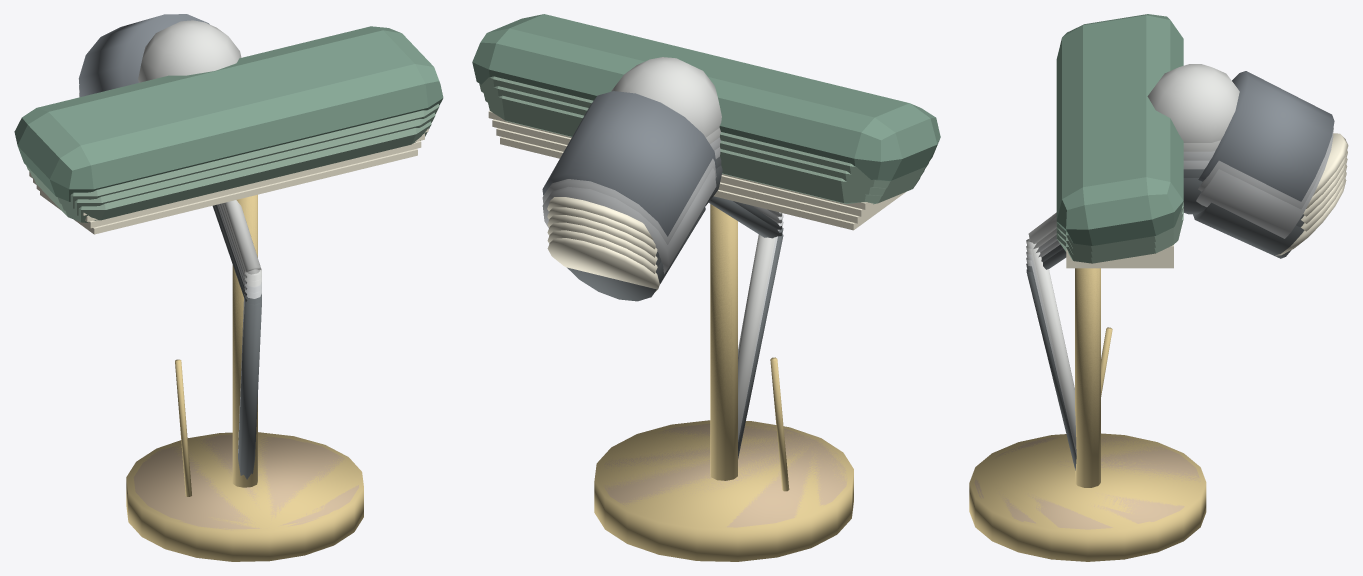
The model's file is Gear02.fbx.
3 renders of one model, left to right at view 1: azimuth 30°, elevation 25°; view 2: azimuth 150°, elevation 25°; view 3: azimuth 270°, elevation 25°, orthographic. The views are drawn at different scales.
Visible parts, largest first — view 1: Gear02_V10_SageDark, Gear02_V10_Brass, Gear02_V7_Oak, Gear02_V9_Brass, Gear02_V7_Sage, Gear02_V6_Chrome, Gear02_V6_Graphite, Gear02_V9_Sage, Gear02_V1_Charcoal, Gear02_V8_Sage, Gear02_V7_LampLight, Gear02_V7_Brass (+3 smaller); view 2: Gear02_V10_SageDark, Gear02_V10_Brass, Gear02_V6_Graphite, Gear02_V9_Brass, Gear02_V7_Oak, Gear02_V6_Chrome, Gear02_V7_Sage, Gear02_V7_Brass, Gear02_V1_Charcoal, Gear02_V4_BrushedSteel, Gear02_V8_Brass, Gear02_V9_Sage (+14 smaller); view 3: Gear02_V10_SageDark, Gear02_V10_Brass, Gear02_V6_Graphite, Gear02_V6_Chrome, Gear02_V9_Brass, Gear02_V4_BrushedSteel, Gear02_V1_Charcoal, Gear02_V8_Oak, Gear02_V7_Brass, Gear02_V8_Brass, Gear02_V7_Oak, Gear02_V5_BrushedSteel (+9 smaller).
Boxes of the visible parts, bbox=[...] form: Gear02_V10_SageDark: bbox=[14, 26, 443, 201]; Gear02_V10_Brass: bbox=[126, 194, 363, 561]; Gear02_V7_Oak: bbox=[133, 435, 340, 529]; Gear02_V9_Brass: bbox=[134, 195, 359, 531]; Gear02_V7_Sage: bbox=[34, 121, 431, 222]; Gear02_V6_Chrome: bbox=[138, 20, 261, 449]; Gear02_V6_Graphite: bbox=[78, 14, 209, 96]; Gear02_V9_Sage: bbox=[26, 104, 439, 208]; Gear02_V1_Charcoal: bbox=[212, 205, 261, 479]; Gear02_V8_Sage: bbox=[30, 112, 435, 215]; Gear02_V7_LampLight: bbox=[40, 149, 417, 234]; Gear02_V7_Brass: bbox=[175, 198, 257, 496]; Gear02_V10_SageDark: bbox=[472, 14, 940, 181]; Gear02_V10_Brass: bbox=[594, 205, 853, 561]; Gear02_V6_Graphite: bbox=[542, 91, 716, 236]; Gear02_V9_Brass: bbox=[597, 222, 843, 528]; Gear02_V7_Oak: bbox=[604, 423, 845, 523]; Gear02_V6_Chrome: bbox=[611, 57, 774, 438]; Gear02_V7_Sage: bbox=[488, 95, 920, 204]; Gear02_V7_Brass: bbox=[710, 204, 788, 490]; Gear02_V1_Charcoal: bbox=[567, 165, 783, 458]; Gear02_V4_BrushedSteel: bbox=[542, 137, 783, 440]; Gear02_V8_Brass: bbox=[710, 210, 786, 491]; Gear02_V9_Sage: bbox=[479, 76, 928, 188]; Gear02_V10_SageDark: bbox=[1056, 14, 1183, 245]; Gear02_V10_Brass: bbox=[969, 268, 1206, 561]; Gear02_V6_Graphite: bbox=[1198, 71, 1334, 201]; Gear02_V6_Chrome: bbox=[1026, 64, 1239, 452]; Gear02_V9_Brass: bbox=[972, 268, 1203, 530]; Gear02_V4_BrushedSteel: bbox=[1026, 135, 1333, 454]; Gear02_V1_Charcoal: bbox=[1026, 178, 1303, 470]; Gear02_V8_Oak: bbox=[974, 436, 1200, 522]; Gear02_V7_Brass: bbox=[1075, 268, 1112, 486]; Gear02_V8_Brass: bbox=[1075, 268, 1100, 487]; Gear02_V7_Oak: bbox=[976, 438, 1194, 529]; Gear02_V5_BrushedSteel: bbox=[1198, 128, 1333, 209].
Bounding box in the file's own units: 41.65 × 45.5 × 35.26.
